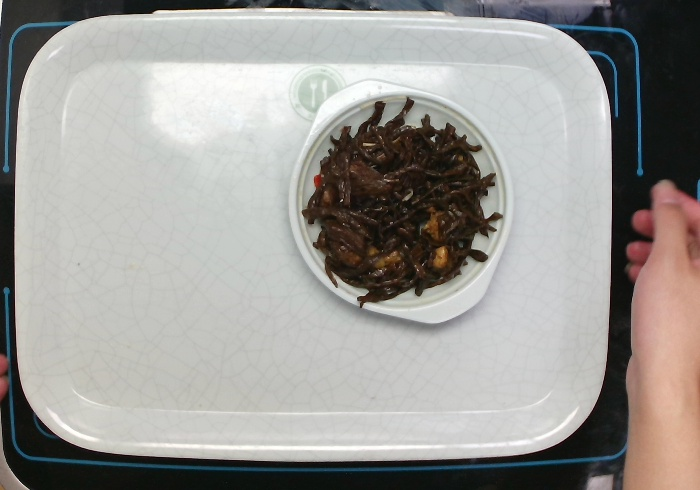JYsf-Shuang_Er_Pan: (286, 80, 512, 325)
